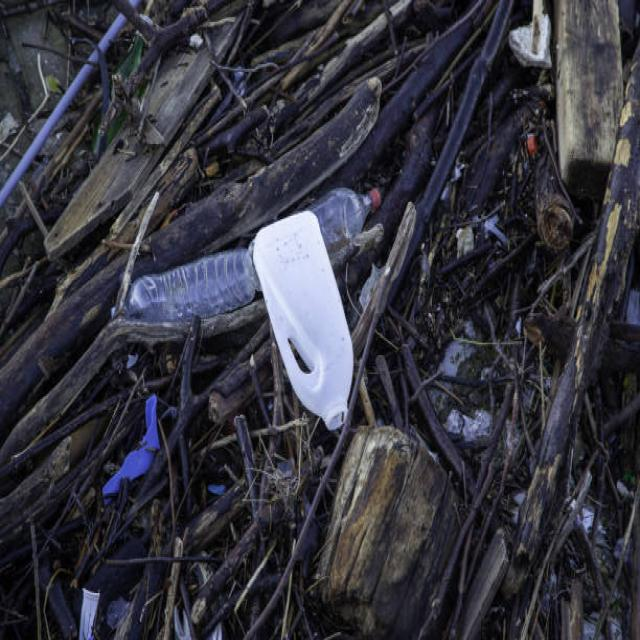plastic: (117, 236, 385, 440)
